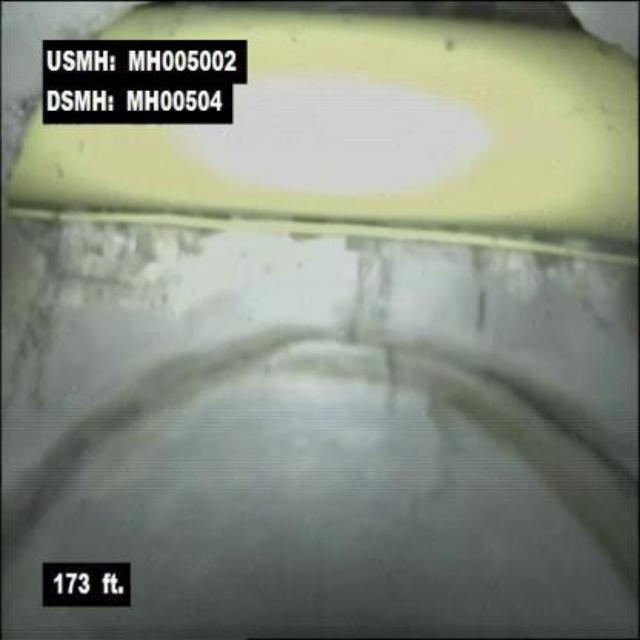Utility intrusion: (5, 3, 638, 269)
